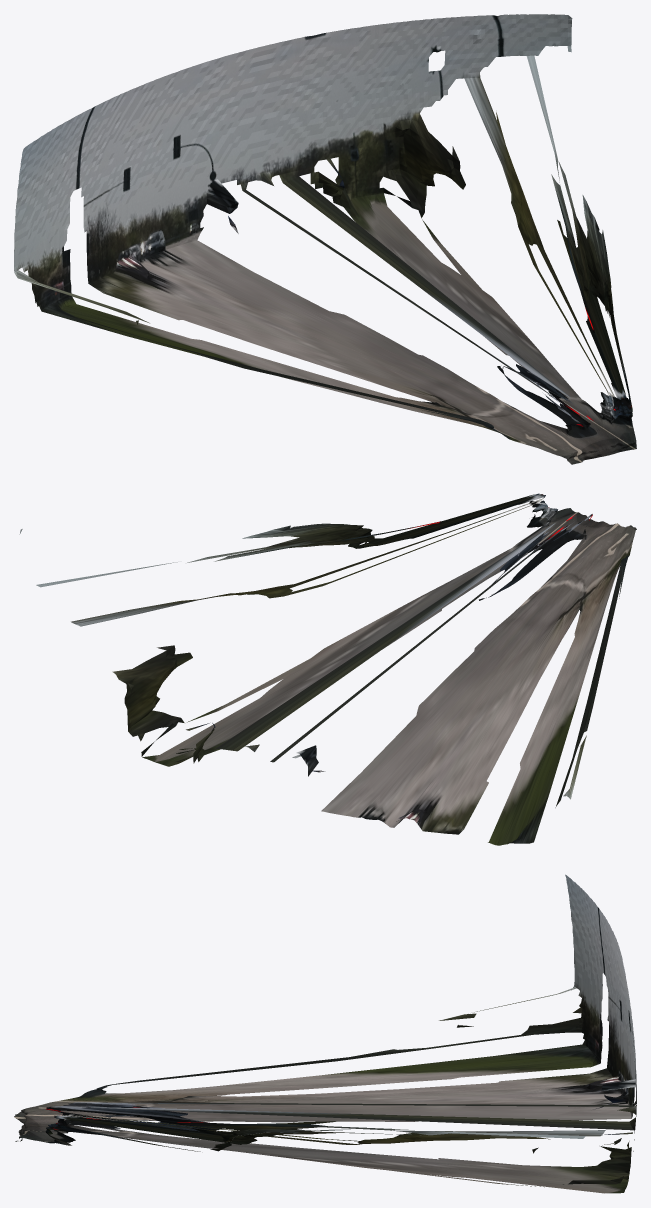
The picture shows the model from 3 angles, top to bottom: view 1: azimuth 30°, elevation 25°; view 2: azimuth 150°, elevation 25°; view 3: azimuth 270°, elevation 25°; orthographic projection. The views are drawn at different scales.
Visible parts, largest first — view 1: defaultobject; view 2: defaultobject; view 3: defaultobject.
Boxes of the visible parts, box(x1,y1,x2,y2) form: defaultobject: box(14, 14, 636, 464); defaultobject: box(19, 493, 636, 845); defaultobject: box(14, 874, 636, 1193).
Bounding box in the file's own units: 40.98 × 13.71 × 44.59.
Materials: 1 (1 with a texture image).
